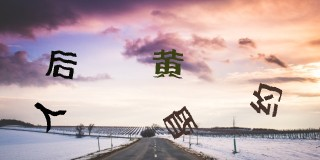人: (34, 102, 66, 132)
后: (44, 50, 78, 79)
昏: (163, 106, 199, 138)
约: (249, 82, 282, 118)
黄: (152, 48, 183, 79)
